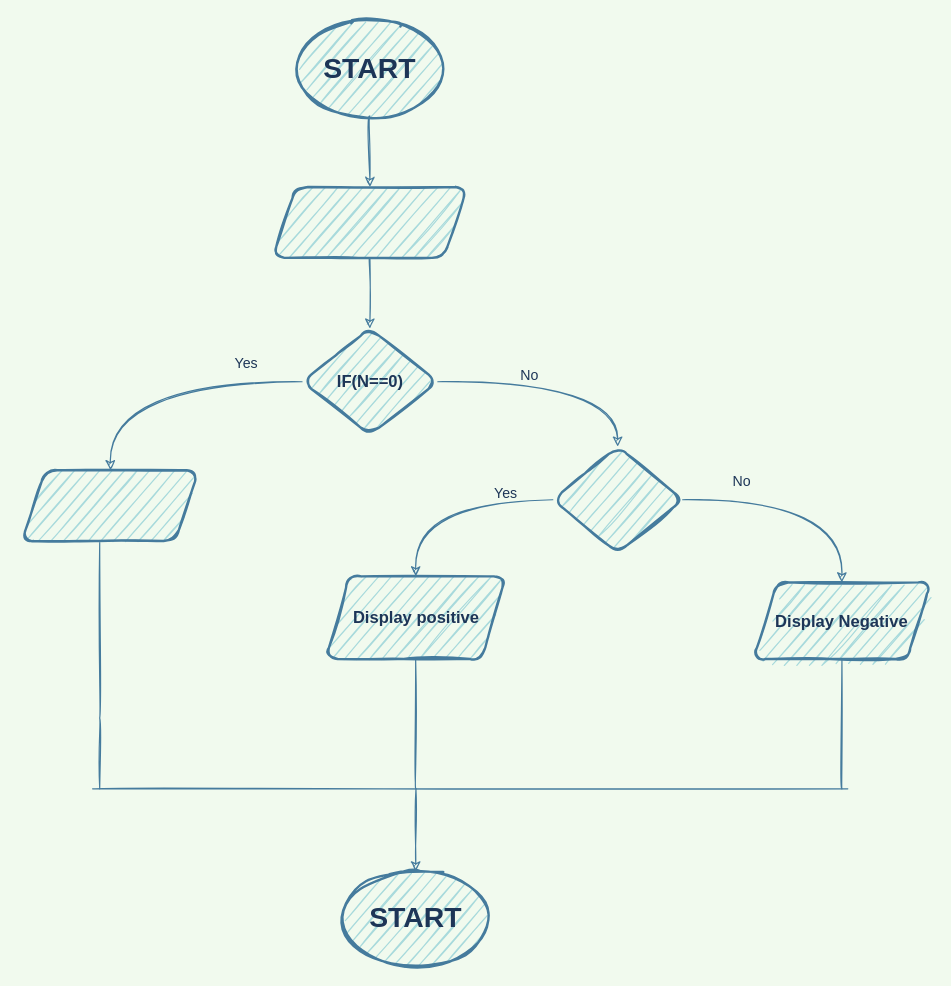
Some shapes in this 951 by 986 pixel diagram are drawn without their labels. Here are the shapes that lost their labels. From the top down, the centre of each, then its label:
At (369,221): "get n value".
At (109,505): "Display Zero".
At (617,499): "IF(N>0)".
